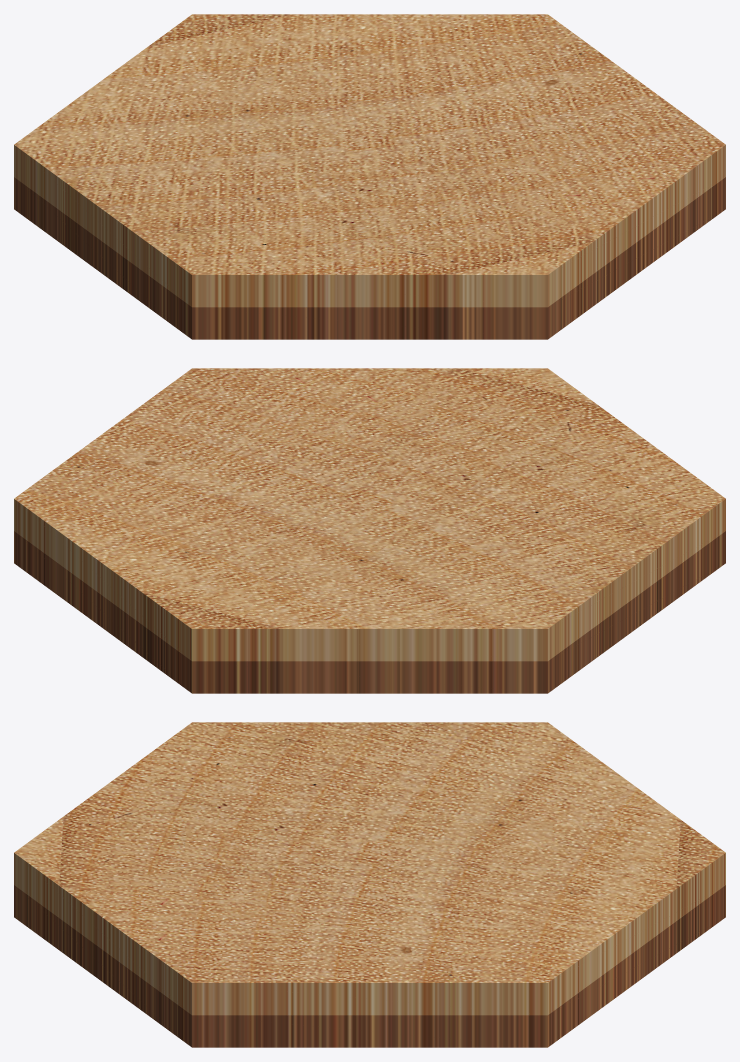
Rendered from HexagonLowPoly.FBX.
3 renders of one model, top to bottom at view 1: azimuth 30°, elevation 25°; view 2: azimuth 150°, elevation 25°; view 3: azimuth 270°, elevation 25°, orthographic.
Parts seen in each view (by area): view 1: HexagonLowPoly; view 2: HexagonLowPoly; view 3: HexagonLowPoly.
Part boxes in pixels (left/top/right/bottom): HexagonLowPoly: left=14, top=14, right=725, bottom=339; HexagonLowPoly: left=14, top=368, right=725, bottom=693; HexagonLowPoly: left=14, top=722, right=725, bottom=1047.
Bounding box in the file's own units: 17.32 × 2 × 20.
